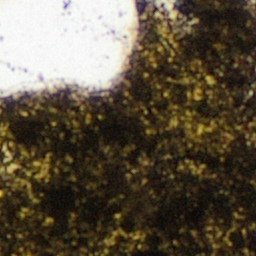cement_matrix: (0, 0, 255, 255)
gravel_crushed_stones: (0, 0, 135, 93), (150, 0, 177, 20)
